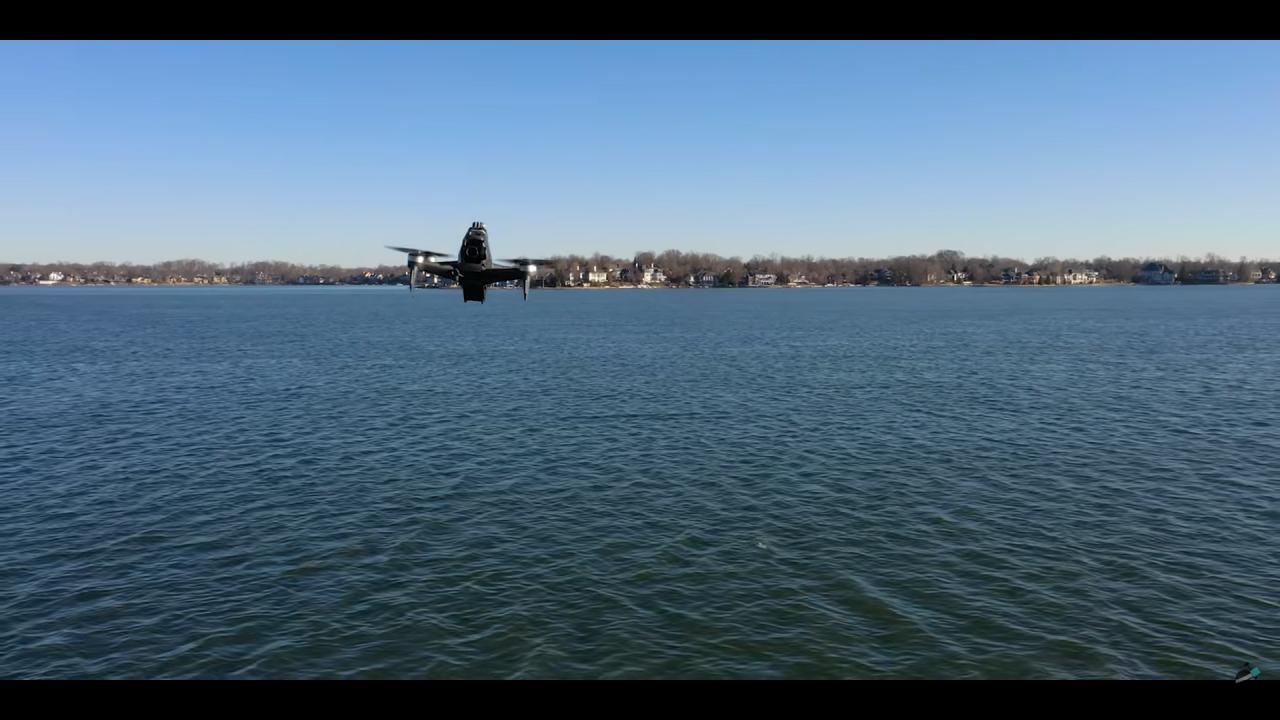Drone: (383, 215, 555, 311)
